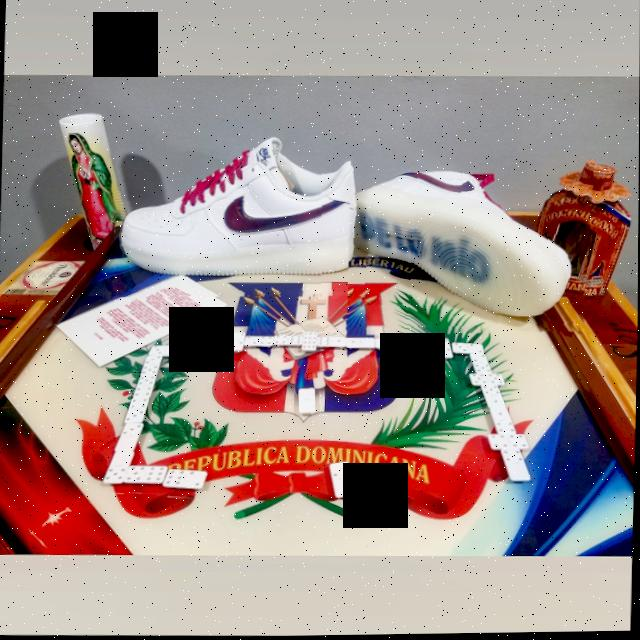shoe: (346, 157, 595, 340), (115, 130, 365, 302)
